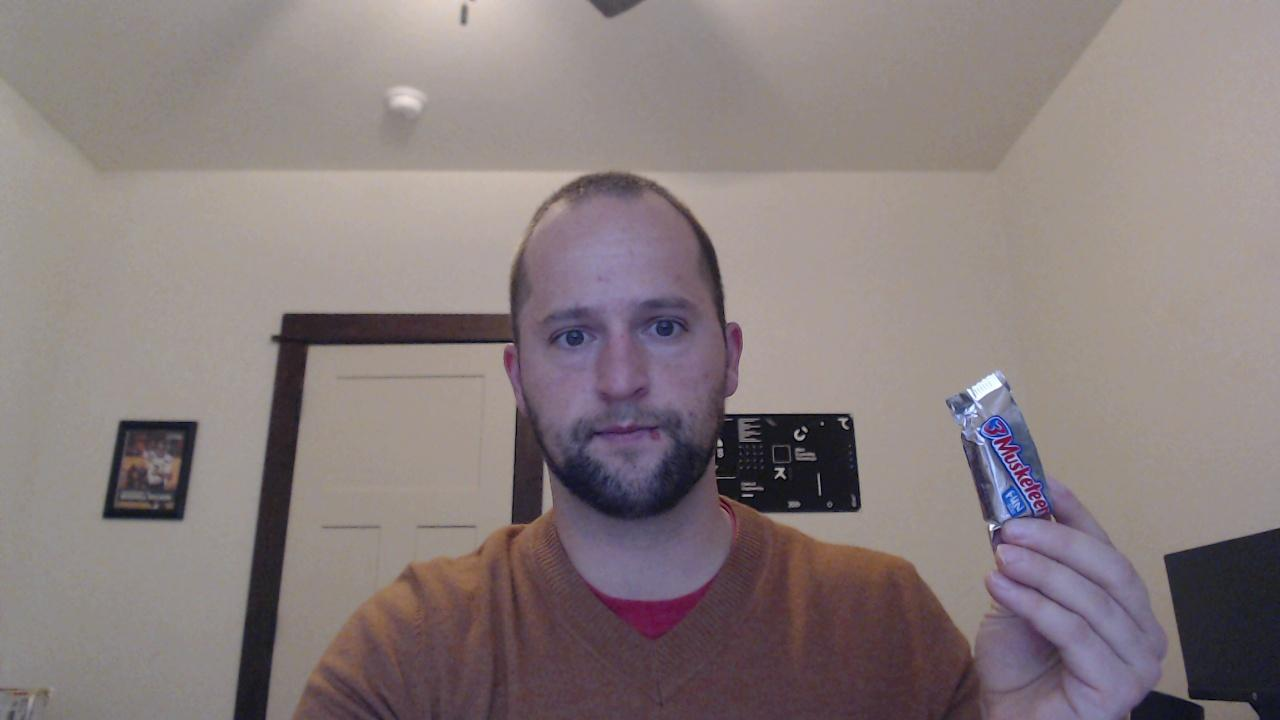musketeers: (947, 369, 1057, 551)
